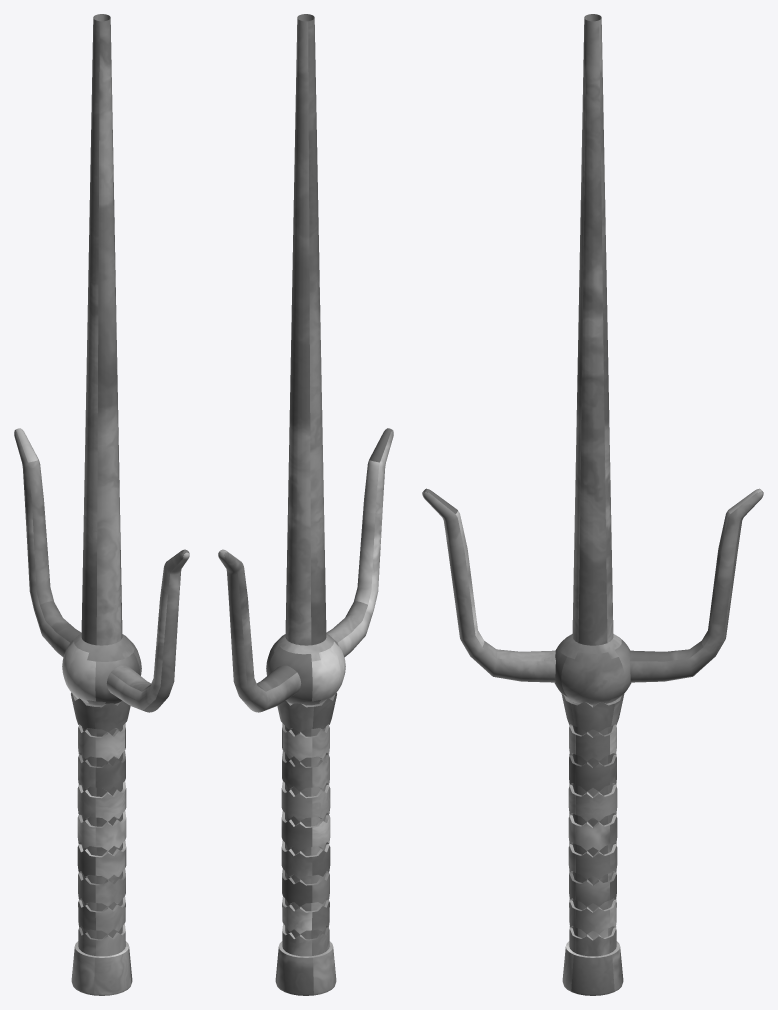
File: SM_SM_knife_04.fbx
3 views of the same model, side by side, from view 1: azimuth 30°, elevation 25°; view 2: azimuth 150°, elevation 25°; view 3: azimuth 270°, elevation 25° (orthographic).
Parts seen in each view (by area): view 1: SM_SM_knife_04; view 2: SM_SM_knife_04; view 3: SM_SM_knife_04.
Part boxes in pixels (<box>): SM_SM_knife_04: <box>14,14,189,995</box>; SM_SM_knife_04: <box>218,14,393,995</box>; SM_SM_knife_04: <box>422,14,763,995</box>.
Size of the model in its own units: 4.96 by 21.4 by 66.83.
Materials: 1 (1 with a texture image).
